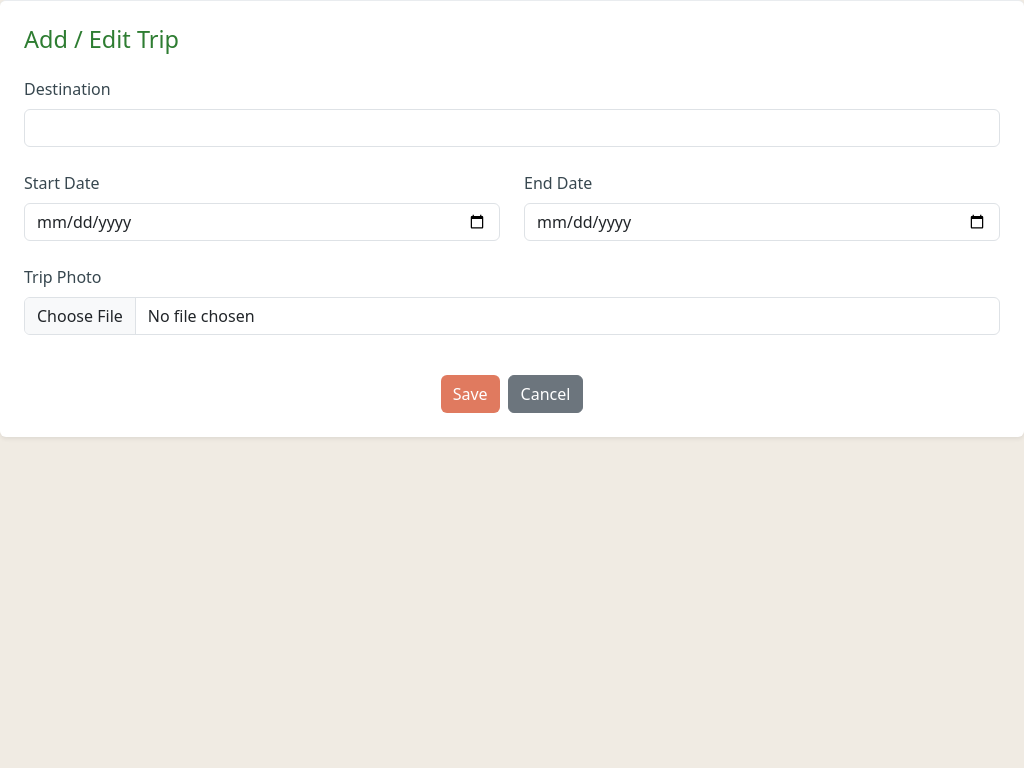
Test: TripForm › displays error on submit when required fields are missing
The image size is (1024, 768).
Click the button "Save" at (470, 394), box [441,375,500,413]
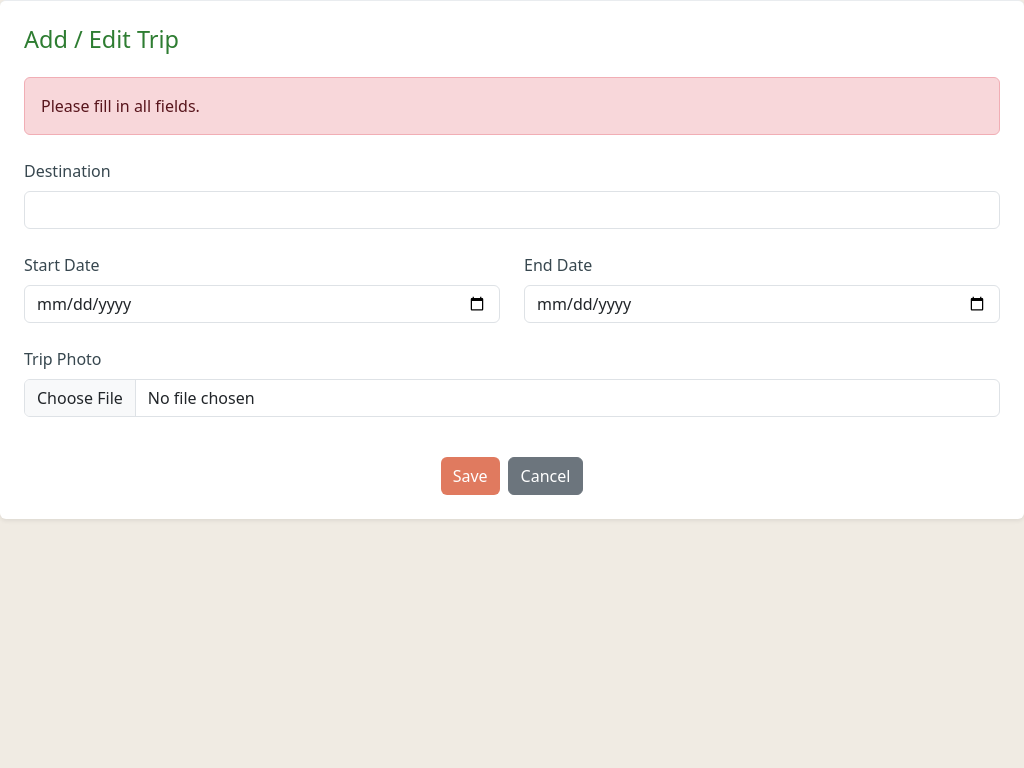
expect the text "Please fill in all fields." is shown: met, box [24,77,1000,135]
